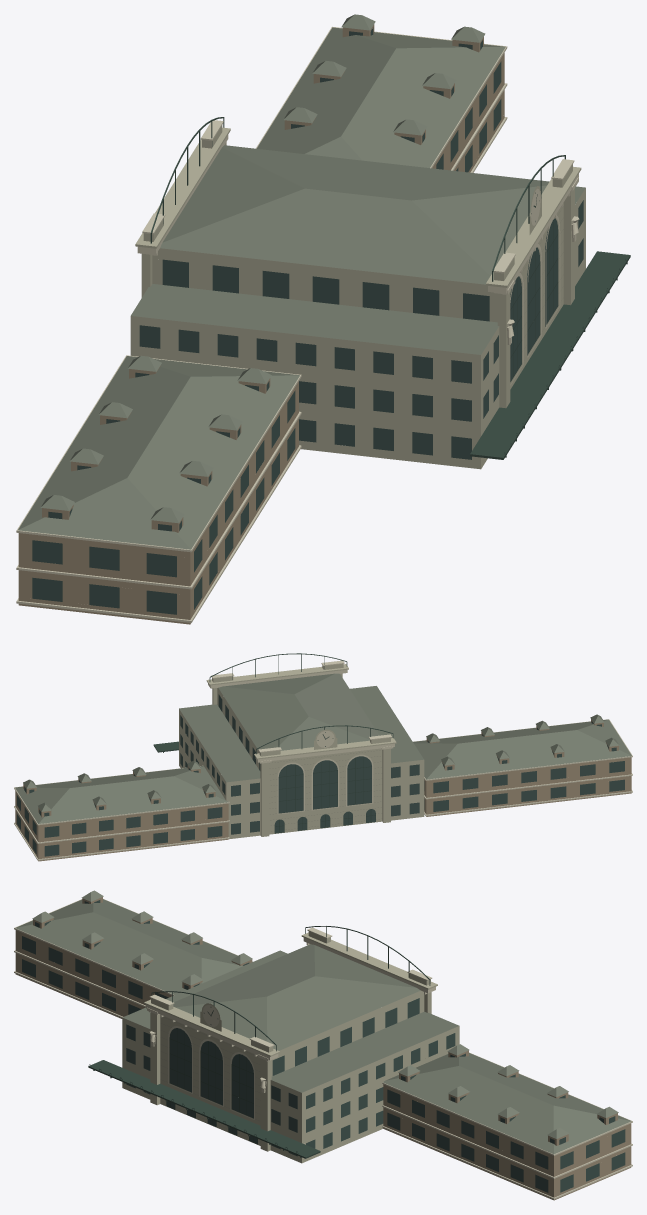
The model's file is denver-union-station-far.glb.
3 views of the same model, one above another, from view 1: azimuth 30°, elevation 25°; view 2: azimuth 150°, elevation 25°; view 3: azimuth 270°, elevation 25° (orthographic). The views are drawn at different scales.
Visible parts, largest first — view 1: denver-union-station-0-roof, denver-union-station-0-stone, denver-union-station-0-glass, denver-union-station-0-pink, denver-union-station-0-metal, denver-union-station-0-trim; view 2: denver-union-station-0-roof, denver-union-station-0-glass, denver-union-station-0-stone, denver-union-station-0-pink, denver-union-station-0-trim, denver-union-station-0-metal, denver-union-station-0-mortar; view 3: denver-union-station-0-roof, denver-union-station-0-stone, denver-union-station-0-glass, denver-union-station-0-pink, denver-union-station-0-trim, denver-union-station-0-metal.
Boxes of the visible parts, box(x1,y1,x2,y2) form: denver-union-station-0-roof: box(18, 14, 585, 549); denver-union-station-0-stone: box(130, 125, 585, 469); denver-union-station-0-glass: box(32, 27, 583, 614); denver-union-station-0-pink: box(18, 24, 504, 624); denver-union-station-0-metal: box(150, 117, 630, 459); denver-union-station-0-trim: box(16, 26, 579, 622); denver-union-station-0-roof: box(15, 673, 631, 823); denver-union-station-0-glass: box(17, 694, 624, 856); denver-union-station-0-stone: box(179, 663, 424, 839); denver-union-station-0-pink: box(15, 719, 631, 861); denver-union-station-0-trim: box(14, 660, 632, 860); denver-union-station-0-metal: box(153, 653, 393, 833); denver-union-station-0-mortar: box(269, 750, 381, 831); denver-union-station-0-roof: box(15, 890, 631, 1154); denver-union-station-0-stone: box(122, 931, 459, 1163); denver-union-station-0-glass: box(22, 900, 625, 1192); denver-union-station-0-pink: box(15, 897, 631, 1200); denver-union-station-0-trim: box(14, 899, 632, 1199); denver-union-station-0-metal: box(88, 926, 430, 1158).
Bounding box in the file's own units: 127 × 28.18 × 127.
